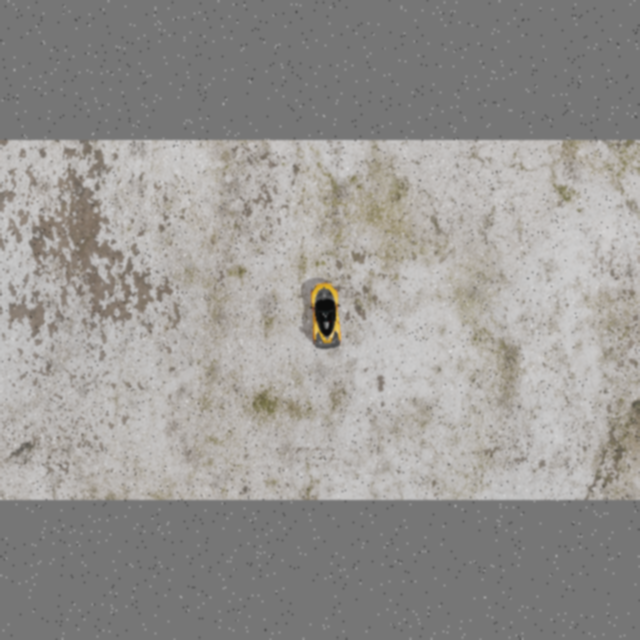car: (307, 281, 342, 350)
